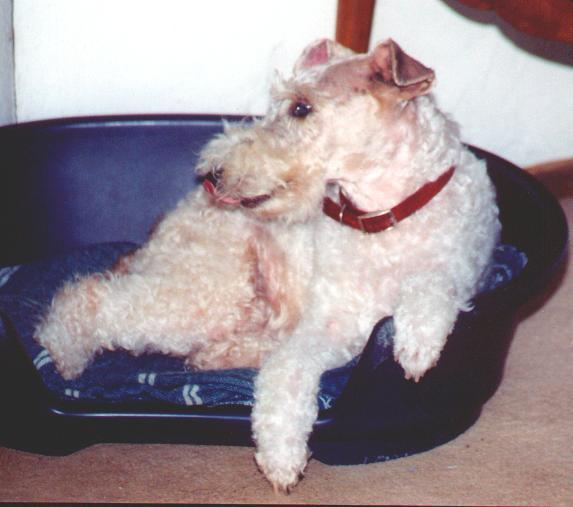wire-haired_fox_terrier: (29, 34, 502, 496)
